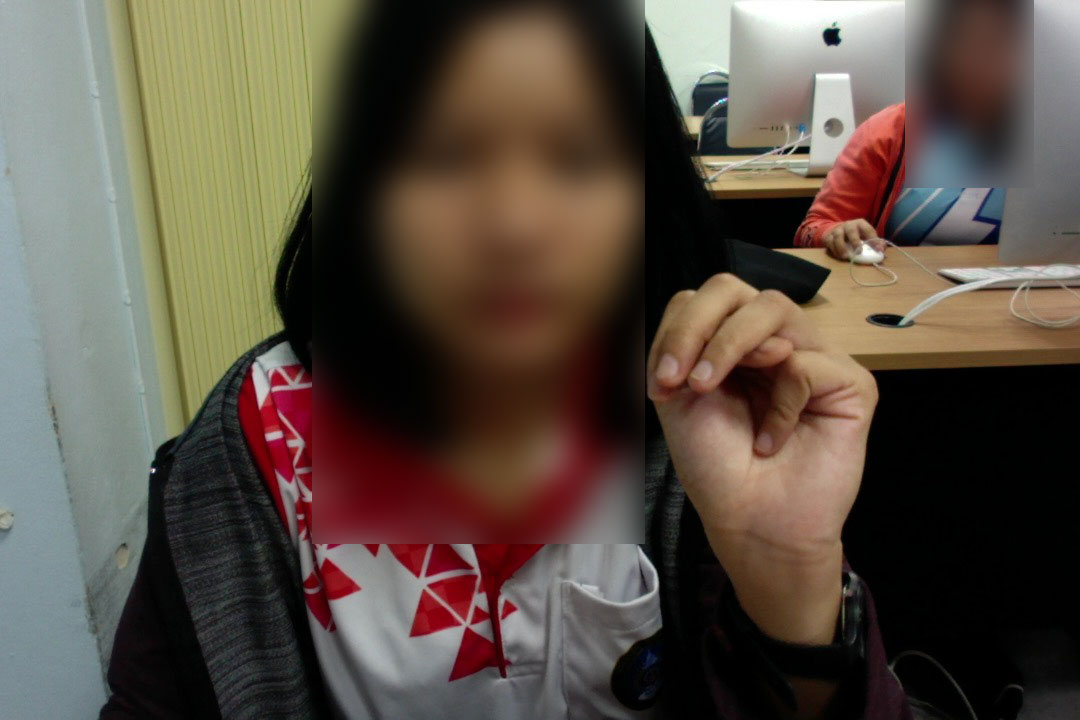mor: (641, 267, 892, 562)
